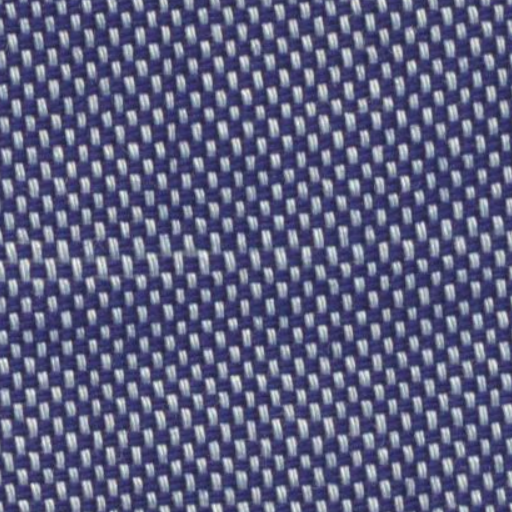TuoSha: (17, 215, 504, 292)
